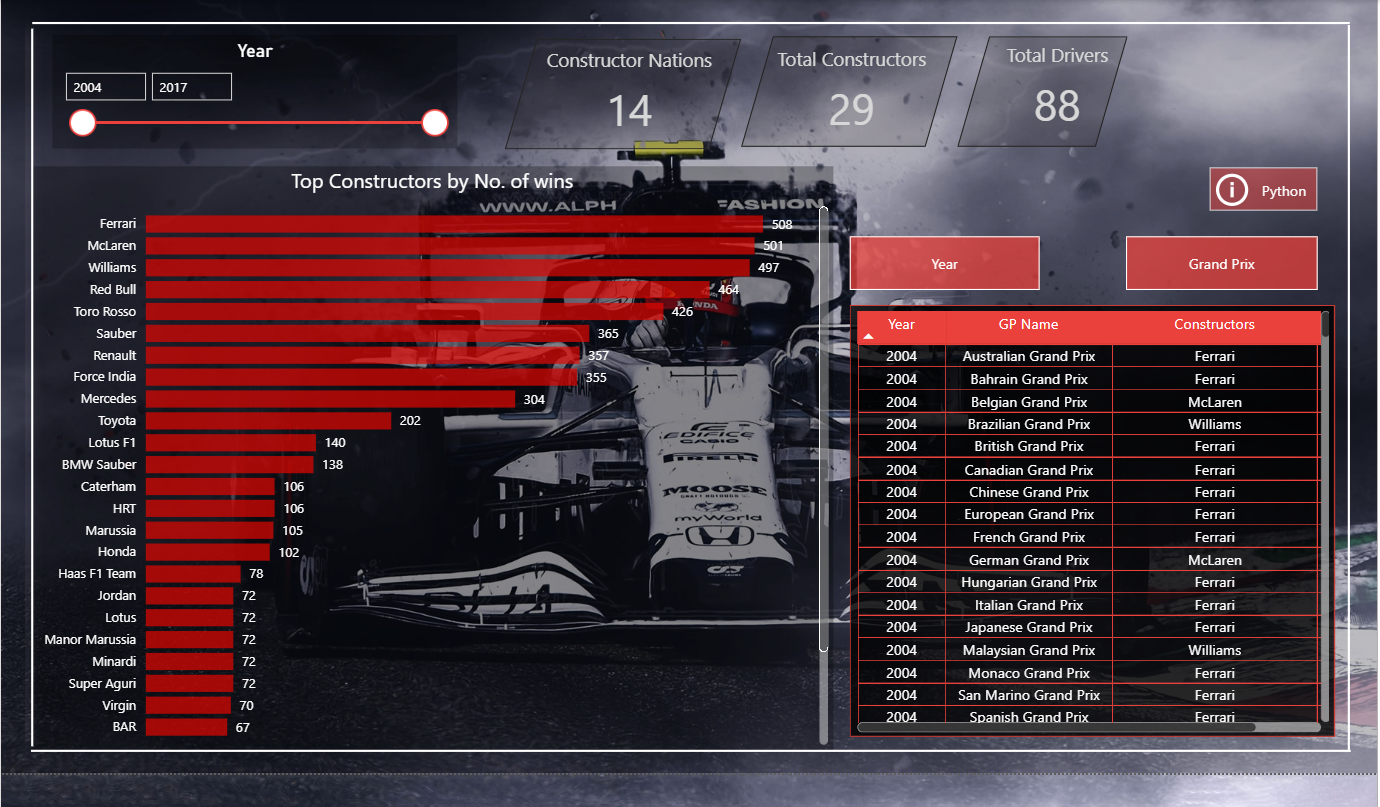

This screenshot's page, from the dashboard's own definition file:
{"tool":"powerbi","page":{"name":"Constructor","canvas":[1280,720],"ordinal":4},"visuals":[{"type":"barChart","title":"Top Constructors by No. of wins","fields":{"Category":["aly6060 fact_result.aly6060.dim_constructor.name"],"Y":["CountNonNull(aly6060 fact_result.Win)"]},"box":[28.3,155,746.7,543.3],"z":0},{"type":"slicer","title":"Year","fields":{"Values":["aly6060 fact_result.aly6060.dim_race.date.Variation.Date Hierarchy.Year"]},"box":[47.1,32.9,377.1,105.7],"z":1000},{"type":"shape","box":[1240,22.9,28.6,675.7],"z":3000},{"type":"shape","box":[10,10,37.1,700],"z":4000},{"type":"shape","box":[28.6,0,1225.7,42.9],"z":5000},{"type":"shape","box":[27.6,676.3,1227.6,43.4],"z":6000},{"type":"card","title":"Total Constructors","fields":{"Values":["Count(aly6060 fact_result.constructorId)"]},"box":[700,42.9,182.9,92.9],"z":7000},{"type":"card","title":"Total Drivers","fields":{"Values":["Count(aly6060 fact_result.driverId)"]},"box":[915.7,40,132.9,92.9],"z":8000},{"type":"card","title":"Constructor Nations","fields":{"Values":["Count(aly6060 fact_result.aly6060.dim_constructor.nationality)"]},"box":[480,44.3,208.6,92.9],"z":9000},{"type":"shape","box":[890,34.3,158.6,102.9],"z":10000},{"type":"shape","box":[688.6,34.3,201.4,102.9],"z":11000},{"type":"shape","box":[468.6,35.7,220,102.9],"z":12000},{"type":"tableEx","fields":{"Values":["aly6060 fact_result.aly6060.dim_race.year","aly6060 fact_result.aly6060.dim_race.name","aly6060 fact_result.aly6060.dim_constructor.name","aly6060 fact_result.WinCount"]},"box":[790,284.3,451.4,401.4],"z":13000},{"type":"shape","title":"Matrix Button","box":[790,220,176.7,50],"z":15000},{"type":"shape","title":"Table Button","box":[1046.7,220,178.3,50],"z":16000},{"type":"actionButton","box":[1124.3,155.7,100,40],"z":17000}]}

Visuals, with their boxes on the page's 1280x720 design canvas (x1, y1, x2, y2). These are canvas units, not pixel positions in the 1380x807 screenshot, which may show the page scaled, cropped or inside an application window:
"Top Constructors by No. of wins" barChart: bbox=(28, 155, 775, 698)
"Year" slicer: bbox=(47, 33, 424, 139)
shape: bbox=(1240, 23, 1269, 699)
shape: bbox=(10, 10, 47, 710)
shape: bbox=(29, 0, 1254, 43)
shape: bbox=(28, 676, 1255, 720)
"Total Constructors" card: bbox=(700, 43, 883, 136)
"Total Drivers" card: bbox=(916, 40, 1049, 133)
"Constructor Nations" card: bbox=(480, 44, 689, 137)
shape: bbox=(890, 34, 1049, 137)
shape: bbox=(689, 34, 890, 137)
shape: bbox=(469, 36, 689, 139)
tableEx - aly6060 fact_result.aly6060.dim_race.year x aly6060 fact_result.aly6060.dim_race.name: bbox=(790, 284, 1241, 686)
"Matrix Button" shape: bbox=(790, 220, 967, 270)
"Table Button" shape: bbox=(1047, 220, 1225, 270)
actionButton: bbox=(1124, 156, 1224, 196)
